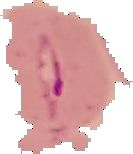parasitized: (27, 25, 72, 123)
